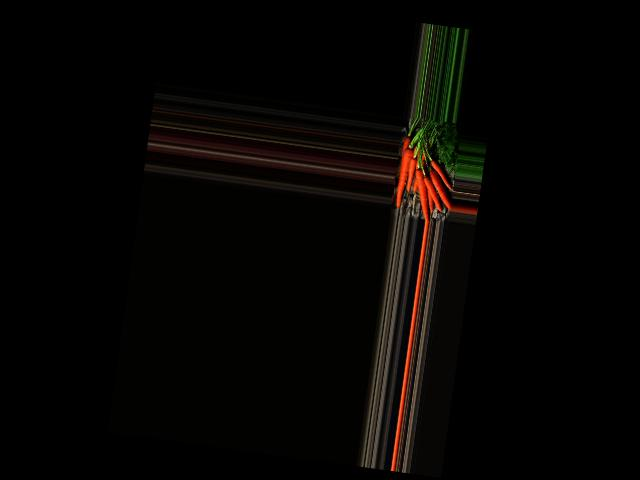carrot: (428, 158, 455, 188)
